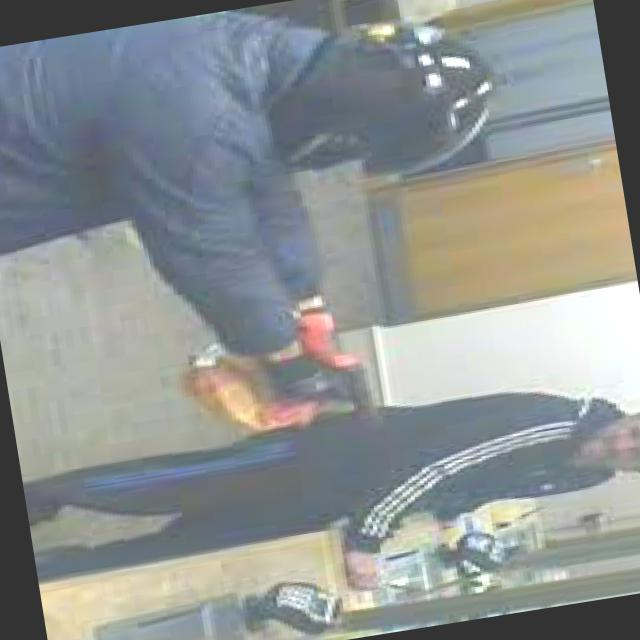handgun: (239, 344, 400, 460)
